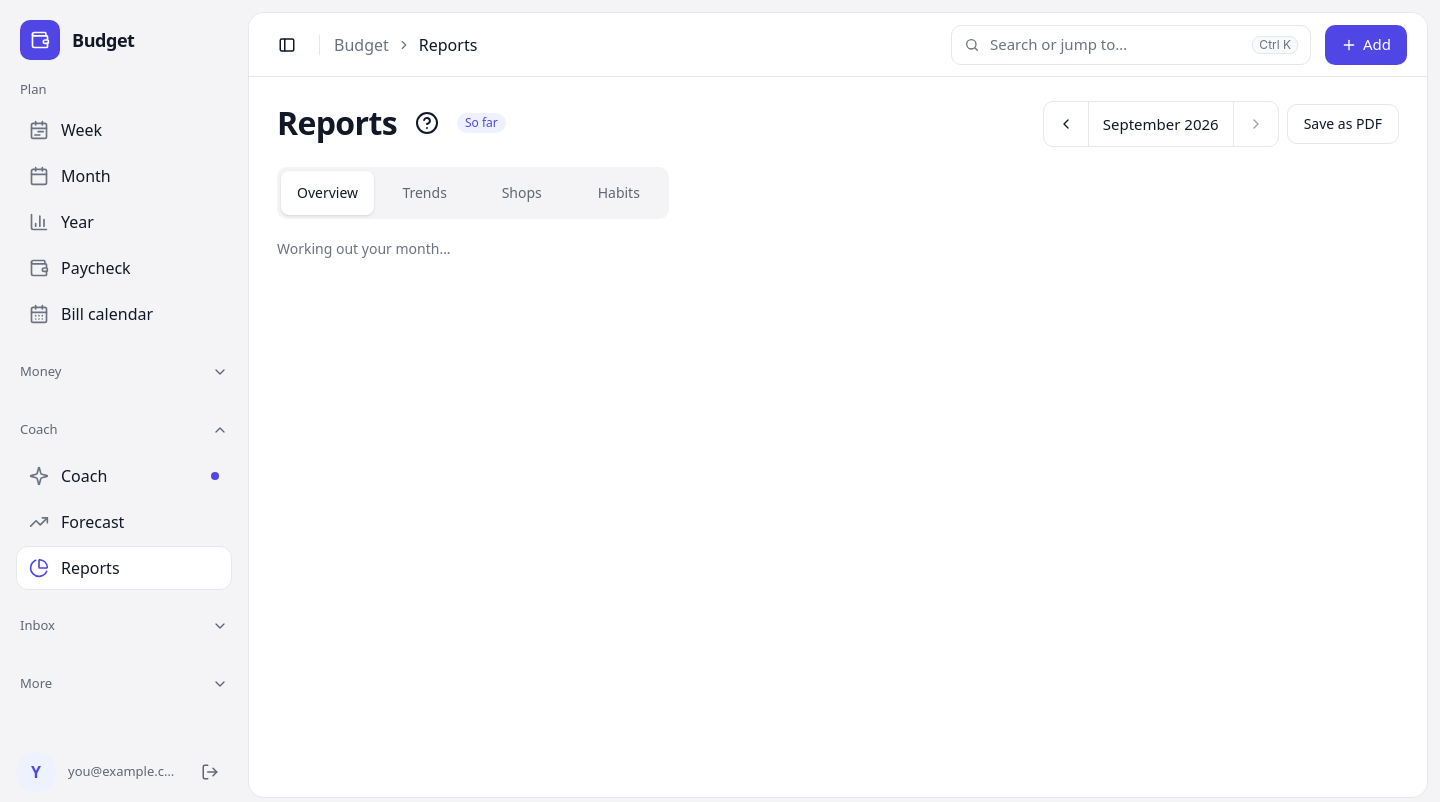
it: Reports, Trends (plan §2.6, A16) › sets each category against its usual month, steady ones first
Click the tab "Trends": point(425, 193) [378,171,471,215]
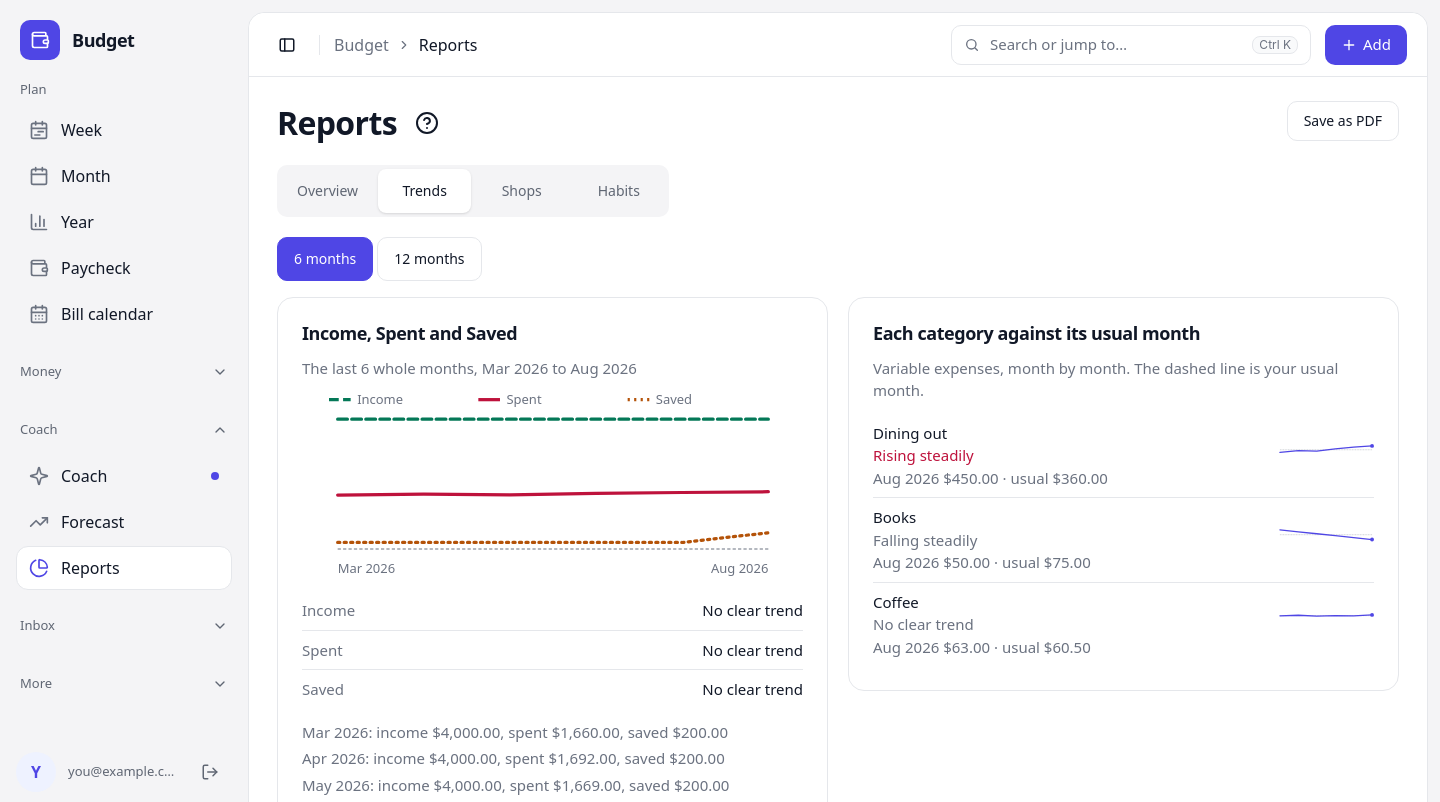
Check: the text "Rising steadily" is shown, box [873,445,974,465]
Check: the text "Aug 2026 $450.00 · usual $360.00" is shown, box [873,468,1108,488]
Check: the picture named "Dining out, month by month" is shown, box [1278,444,1374,467]
